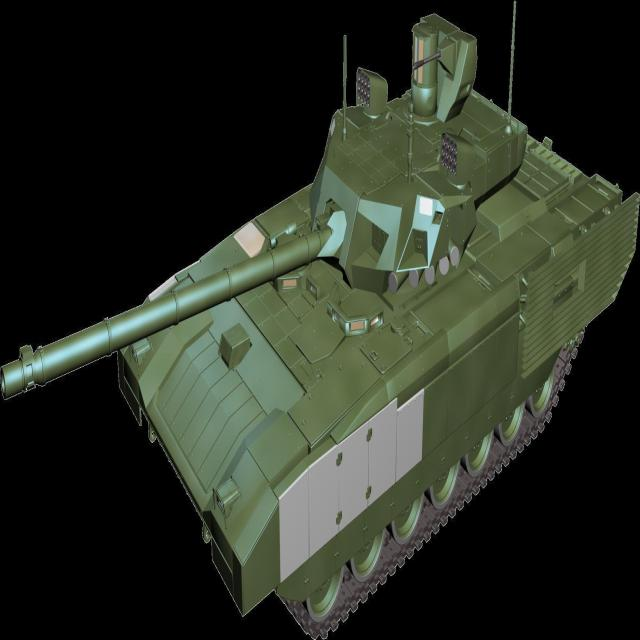Tanks: (135, 28, 630, 592)
